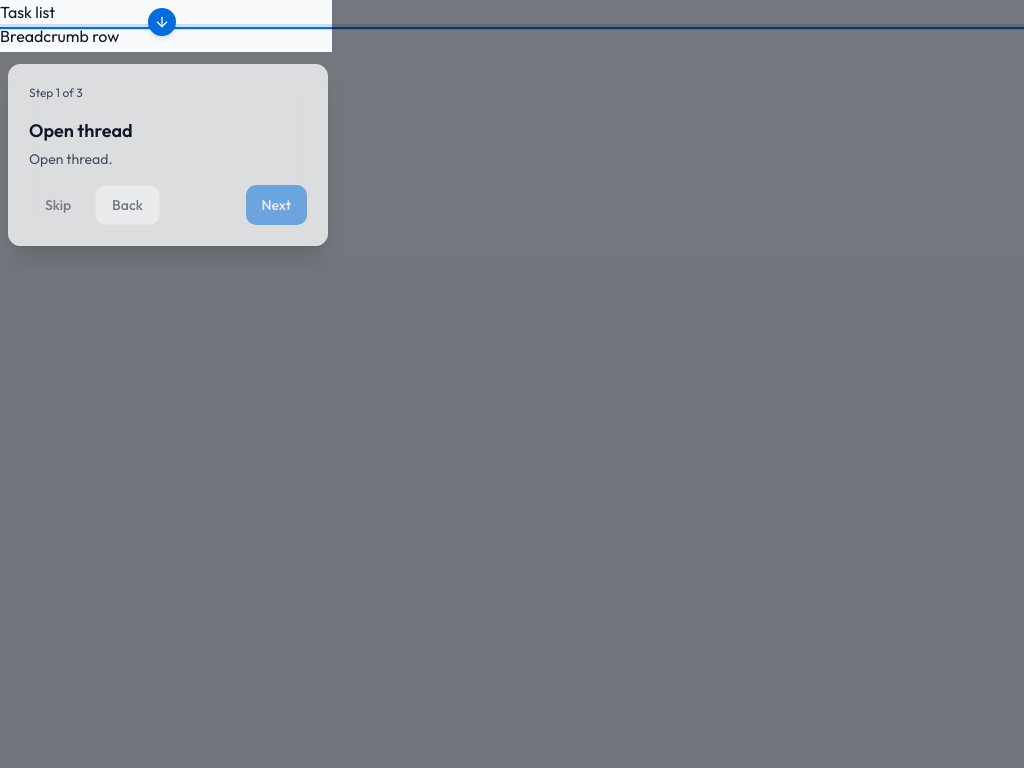
Test: OnboardingGuide breadcrumb transitions › auto-advances on initial breadcrumb interaction
Click the text "Task list" at x=512, y=12, box [0,0,1023,24]
Wait 300 ms
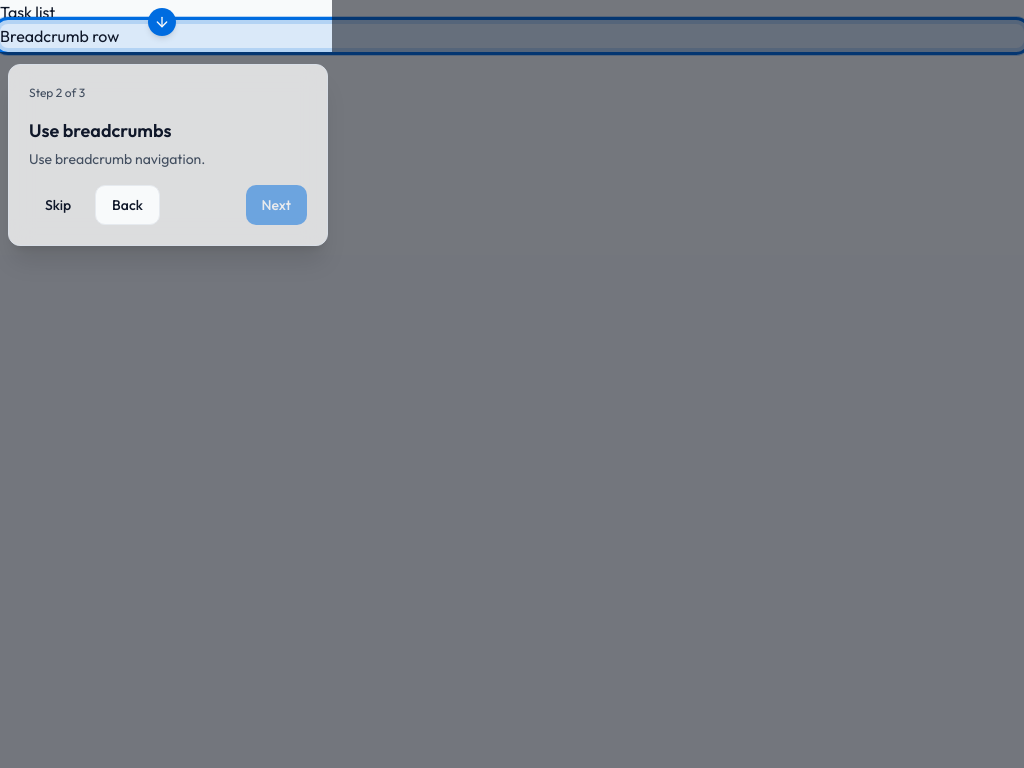
expect the heading "Use breadcrumbs" is shown: met, box [29,119,172,142]
Click the text "Breadcrumb row" at x=512, y=36, box [0,24,1023,48]
Wait 300 ms
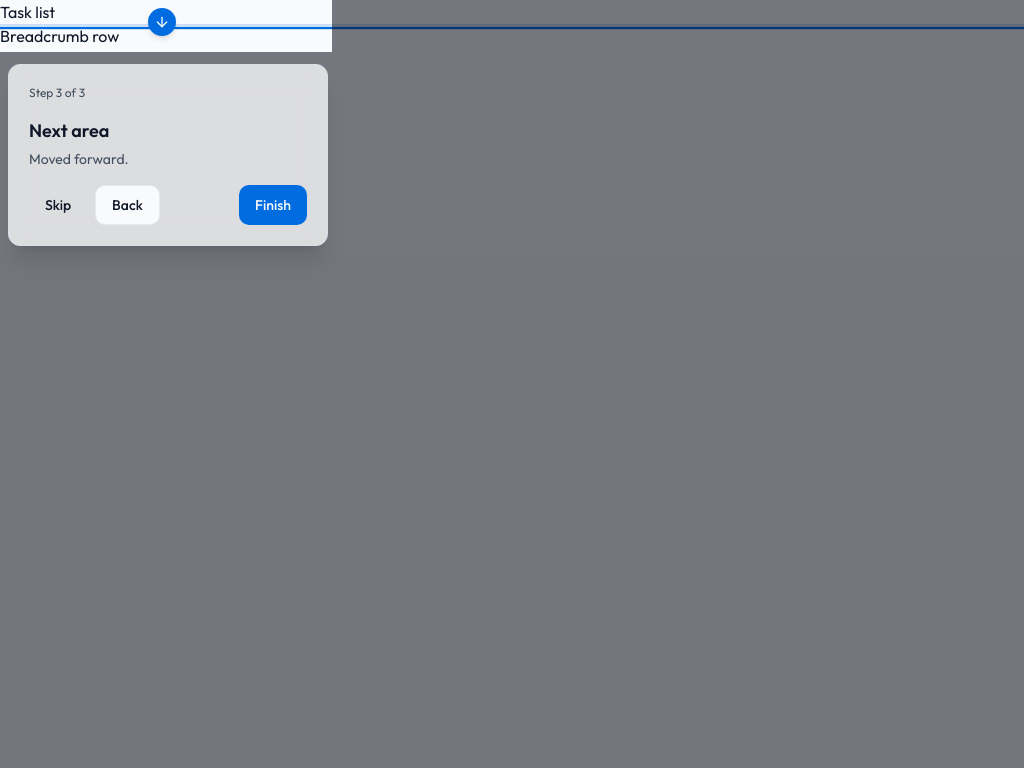
expect the heading "Next area" is shown: met, box [29,119,109,142]
